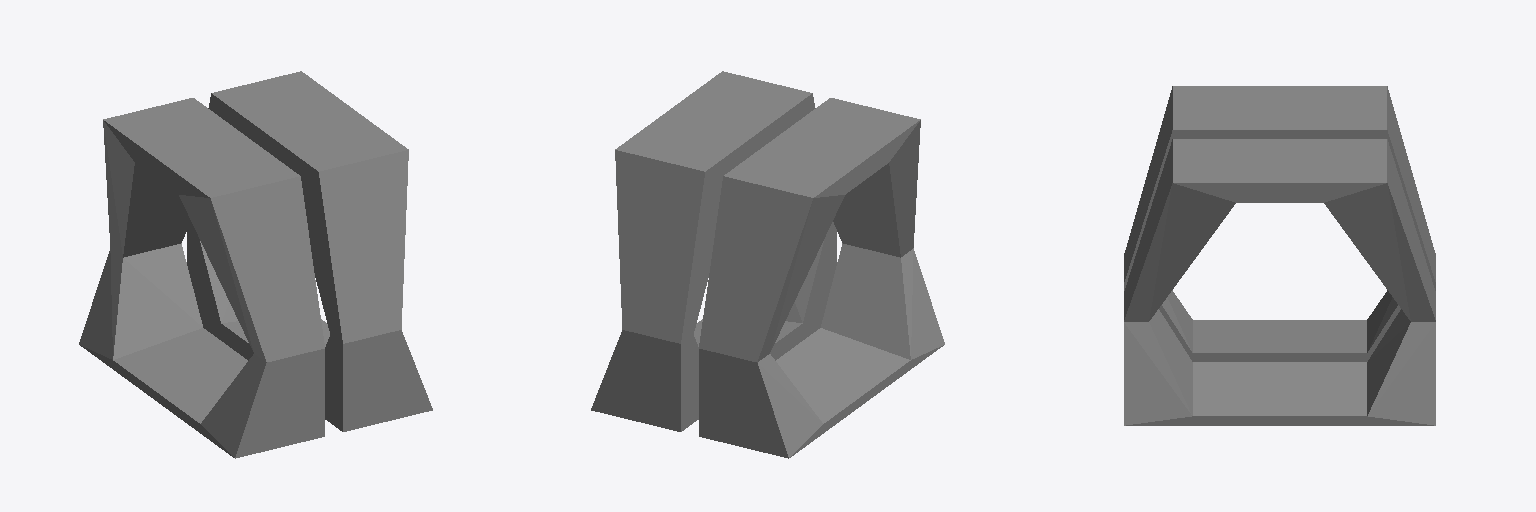
The model's file is doorFrame.obj.
3 renders of one model, left to right at view 1: azimuth 30°, elevation 25°; view 2: azimuth 150°, elevation 25°; view 3: azimuth 270°, elevation 25°, orthographic.
Visible parts, largest first — view 1: Shape023; view 2: Shape023; view 3: Shape023.
Part boxes in pixels (bbox=[...]): Shape023: bbox=[79, 71, 432, 458]; Shape023: bbox=[591, 71, 944, 458]; Shape023: bbox=[1124, 86, 1435, 425].
Bounding box in the file's own units: 3.67 × 4.29 × 5.01.